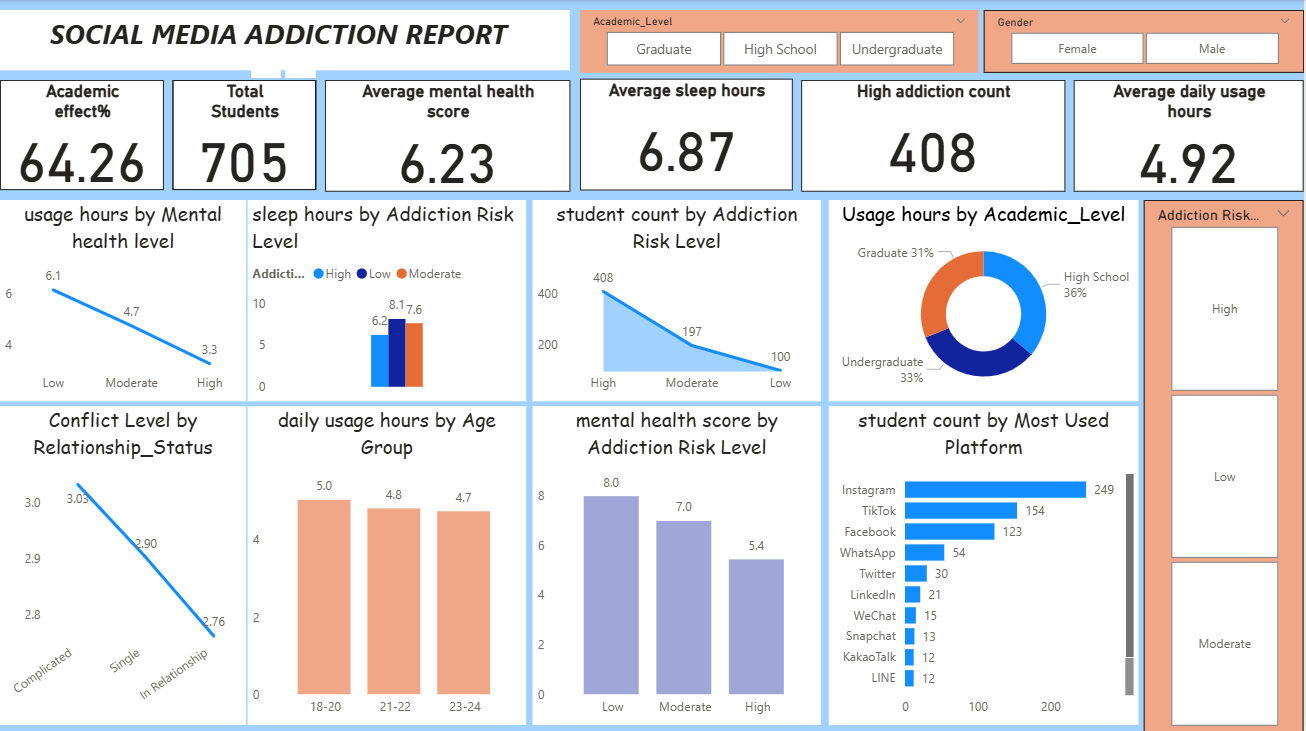

What the dashboard file says about the page in this screenshot:
{"tool":"powerbi","page":{"name":"Page 2","canvas":[1280,720],"ordinal":0},"visuals":[{"type":"columnChart","title":"daily usage hours by Age Group","fields":{"Category":["Students Social Media Addiction.Age Group"],"Y":["Students Social Media Addiction.Average_daily_usage_hours"]},"box":[242.9,398.8,273.6,312.9],"z":0},{"type":"clusteredBarChart","title":"student count  by Most Used Platform","fields":{"Y":["Students Social Media Addiction.total_student_count"],"Category":["Students Social Media Addiction.Most_Used_Platform"]},"box":[813.5,398.8,304.3,312.9],"z":1000},{"type":"clusteredColumnChart","title":"sleep hours by Addiction Risk Level","fields":{"Y":["Students Social Media Addiction.avg sleep hours"],"Series":["Students Social Media Addiction.Addiction Risk Level"]},"box":[242.9,196.3,273.6,197.5],"z":2000},{"type":"slicer","fields":{"Values":["Students Social Media Addiction.Academic_Level"]},"box":[569.3,9.8,391.4,61.4],"z":3000},{"type":"slicer","fields":{"Values":["Students Social Media Addiction.Gender"]},"box":[965.6,9.8,314.1,61.4],"z":4000},{"type":"card","title":"       Total Students","fields":{"Values":["Students Social Media Addiction.total student"]},"box":[169.3,78.5,141.1,108],"z":5000},{"type":"donutChart","title":"Usage hours by Academic_Level","fields":{"Category":["Students Social Media Addiction.Academic_Level"],"Y":["Students Social Media Addiction.Average_daily_usage_hours"]},"box":[813.5,196.3,304.3,197.5],"z":6000},{"type":"card","title":"Academic effect%","fields":{"Values":["Students Social Media Addiction.Academic Impact %"]},"box":[0,78.5,160.7,108],"z":7000},{"type":"card","title":"High addiction count","fields":{"Values":["Students Social Media Addiction.High Addiction Count"]},"box":[786.5,78.5,258.9,109.2],"z":8000},{"type":"card","title":"Average mental health score","fields":{"Values":["Students Social Media Addiction.Average_mental_health_score"]},"box":[319,78.5,240.5,109.2],"z":9000},{"type":"card","title":"Average sleep hours","fields":{"Values":["Students Social Media Addiction.Average_sleep_hours"]},"box":[569.3,77.3,208.6,109.2],"z":10000},{"type":"areaChart","title":"student count by Addiction Risk Level","fields":{"Category":["Students Social Media Addiction.Addiction Risk Level"],"Y":["Students Social Media Addiction.total_student_count"]},"box":[522.7,196.3,283.4,197.5],"z":11000},{"type":"lineChart","title":"Conflict Level by Relationship_Status","fields":{"Category":["Students Social Media Addiction.Relationship_Status"],"Y":["Students Social Media Addiction.Avg Conflict Level"]},"box":[0,398.8,241.7,312.9],"z":12000},{"type":"textbox","box":[0,9.8,559.5,58.9],"z":13000},{"type":"card","title":"Average daily usage hours","fields":{"Values":["Students Social Media Addiction.Average_usage_hours"]},"box":[1054,78.5,225.8,109.2],"z":14000},{"type":"clusteredColumnChart","title":"mental health score by Addiction Risk Level","fields":{"Y":["Students Social Media Addiction.Average_mental_health_score"],"Category":["Students Social Media Addiction.Addiction Risk Level"]},"box":[522.7,398.8,283.4,312.9],"z":15000},{"type":"lineChart","title":"usage hours by Mental health level","fields":{"Category":["Students Social Media Addiction.Mental_health_level"],"Y":["Students Social Media Addiction.Average_daily_usage_hours"]},"box":[0,196.3,241.7,197.5],"z":16000},{"type":"slicer","fields":{"Values":["Students Social Media Addiction.Addiction Risk Level"]},"box":[1122.7,196.3,157.1,523.9],"z":17000}]}

Visuals, with their boxes in screenshot pixels (x1, y1, x2, y2), scaled from the page's 1280x720 canvas onto the 1306x731 screenshot:
"daily usage hours by Age Group" columnChart: 248/405/527/723
"student count  by Most Used Platform" clusteredBarChart: 830/405/1141/723
"sleep hours by Addiction Risk Level" clusteredColumnChart: 248/199/527/400
slicer - Students Social Media Addiction.Academic_Level: 581/10/980/72
slicer - Students Social Media Addiction.Gender: 985/10/1305/72
"       Total Students" card: 173/80/317/189
"Usage hours by Academic_Level" donutChart: 830/199/1141/400
"Academic effect%" card: 0/80/164/189
"High addiction count" card: 802/80/1067/191
"Average mental health score" card: 325/80/571/191
"Average sleep hours" card: 581/78/794/189
"student count by Addiction Risk Level" areaChart: 533/199/822/400
"Conflict Level by Relationship_Status" lineChart: 0/405/247/723
textbox: 0/10/571/70
"Average daily usage hours" card: 1075/80/1305/191
"mental health score by Addiction Risk Level" clusteredColumnChart: 533/405/822/723
"usage hours by Mental health level" lineChart: 0/199/247/400
slicer - Students Social Media Addiction.Addiction Risk Level: 1146/199/1305/730
